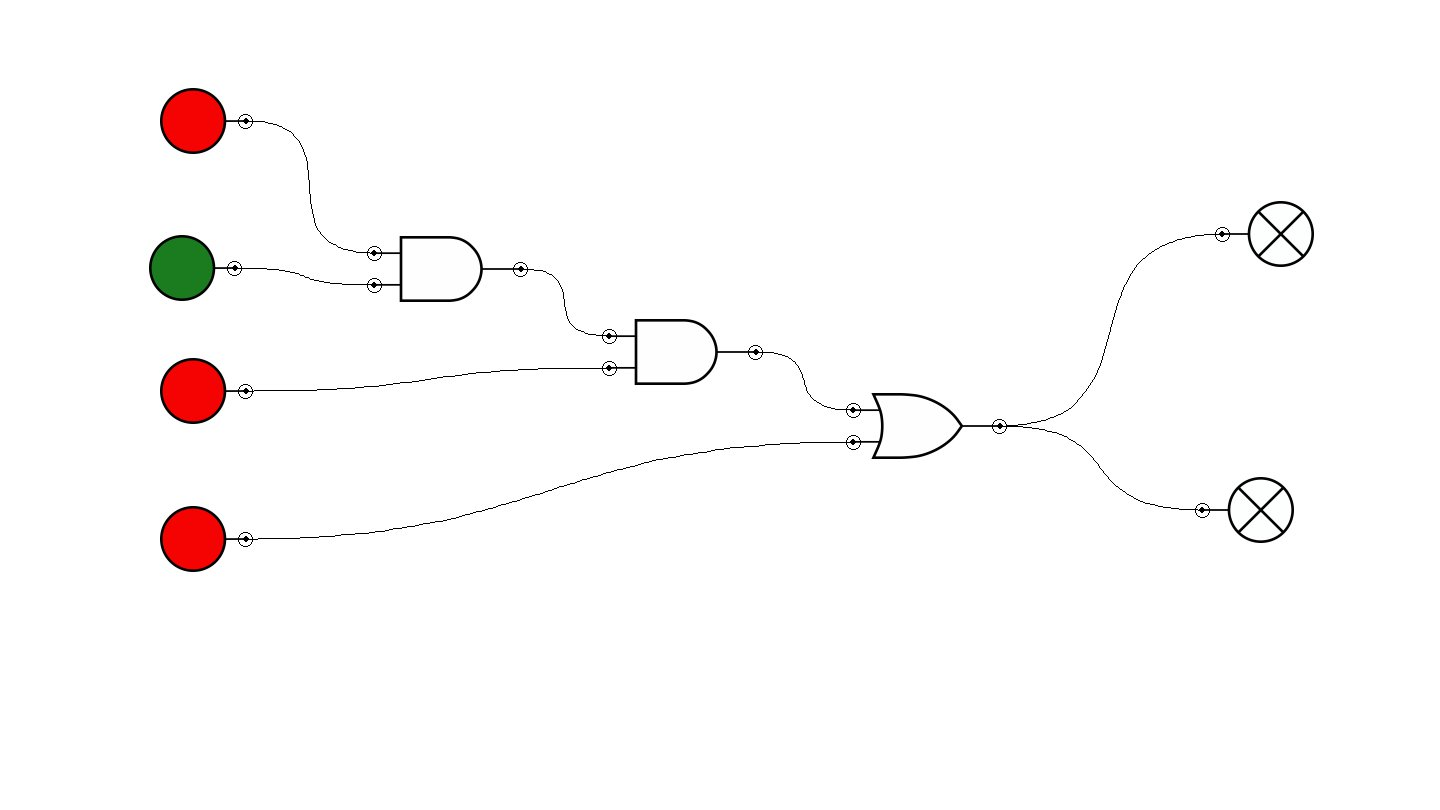and: (367, 236, 528, 302), (602, 319, 763, 385)
bulb: (1195, 477, 1294, 543), (1215, 201, 1314, 267)
or: (846, 393, 1007, 459)
switch_False: (160, 88, 253, 154), (160, 506, 253, 572), (160, 358, 253, 424)
switch_True: (149, 235, 242, 301)
